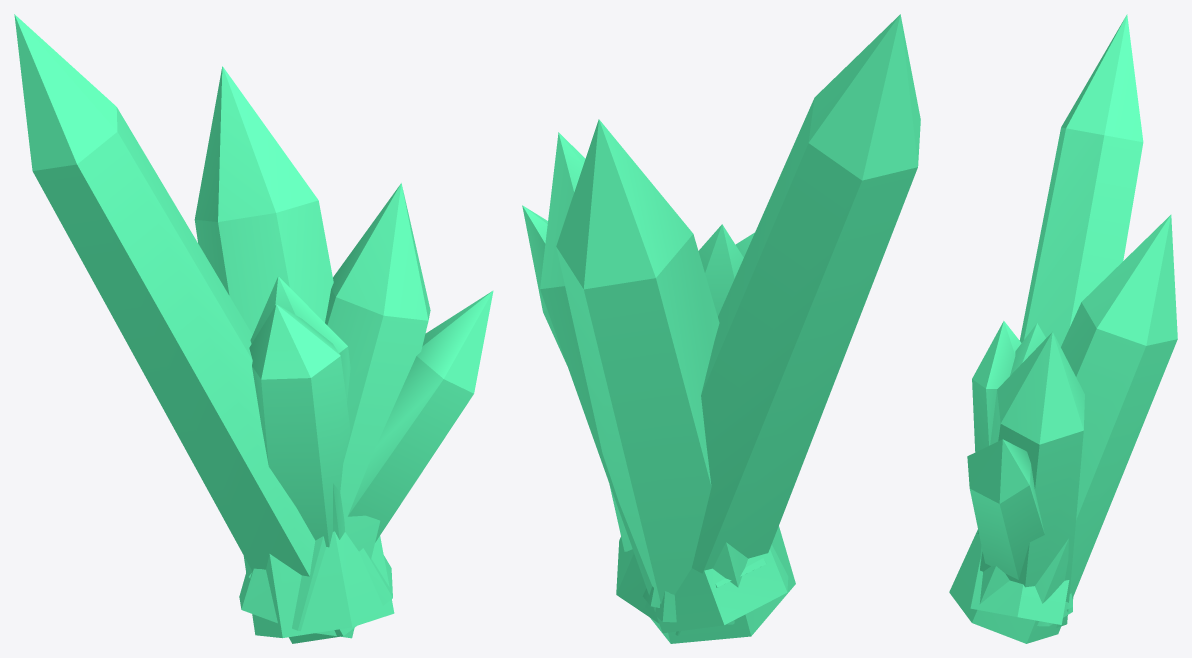
The model's file is obj_deco_cristales.glb.
3 renders of one model, left to right at view 1: azimuth 30°, elevation 25°; view 2: azimuth 150°, elevation 25°; view 3: azimuth 270°, elevation 25°, orthographic. The views are drawn at different scales.
Visible parts, largest first — view 1: propforge-libre-deco_cristales; view 2: propforge-libre-deco_cristales; view 3: propforge-libre-deco_cristales.
Boxes of the visible parts, box(x1,y1,x2,y2) form: propforge-libre-deco_cristales: box(14, 14, 493, 643); propforge-libre-deco_cristales: box(522, 14, 920, 643); propforge-libre-deco_cristales: box(949, 14, 1177, 643).
Size of the model in its own units: 0.3615 by 0.5441 by 0.2155.
